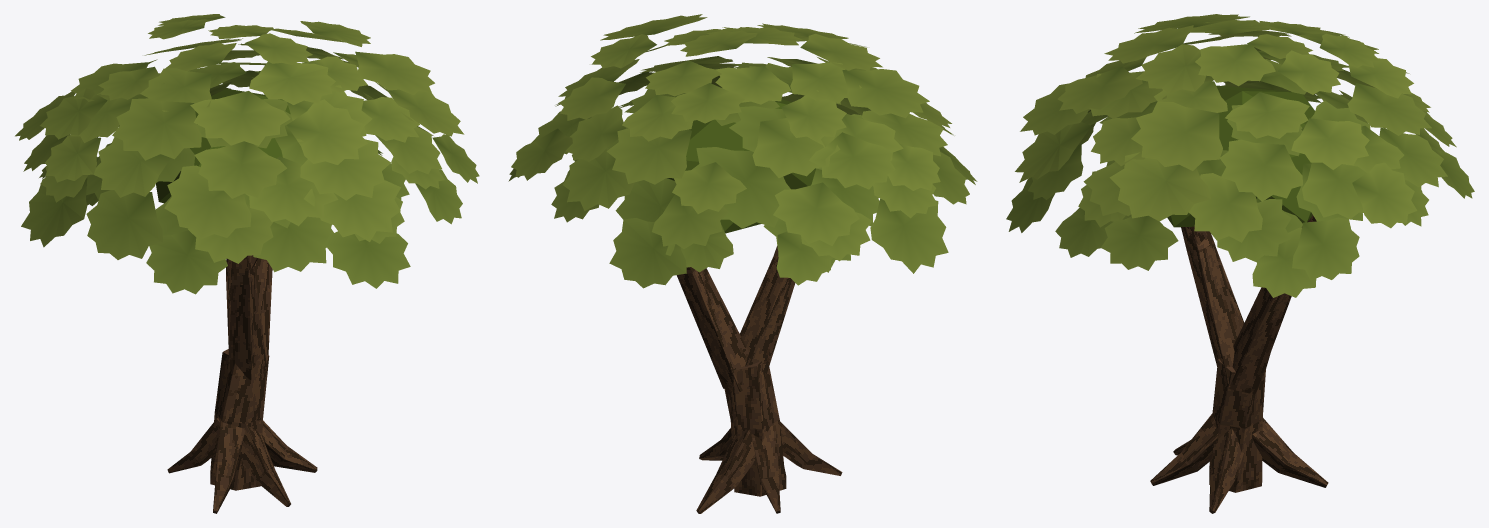
File: tree_green.glb
3 views of the same model, side by side, from view 1: azimuth 30°, elevation 25°; view 2: azimuth 150°, elevation 25°; view 3: azimuth 270°, elevation 25° (orthographic). The views are drawn at different scales.
Visible parts, largest first — view 1: sway_crown.005, tree_green; view 2: sway_crown.005, tree_green; view 3: sway_crown.005, tree_green.
Part boxes in pixels (x1,y1,x2,y2): sway_crown.005: [15, 14, 479, 379]; tree_green: [167, 349, 317, 513]; sway_crown.005: [508, 14, 977, 391]; tree_green: [696, 361, 842, 513]; sway_crown.005: [1006, 14, 1474, 394]; tree_green: [1150, 359, 1328, 513].
Size of the model in its own units: 4.7 by 4.81 by 4.6.
3 materials, 1 textured.
